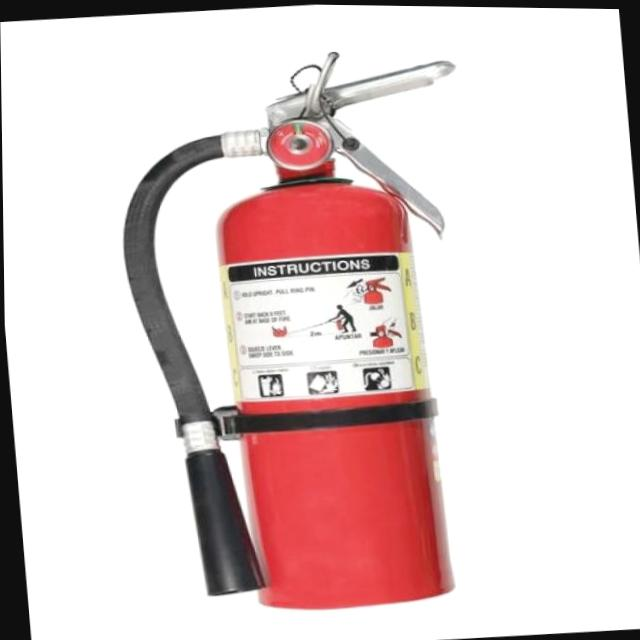FireExtinguisher: (95, 30, 494, 628)
